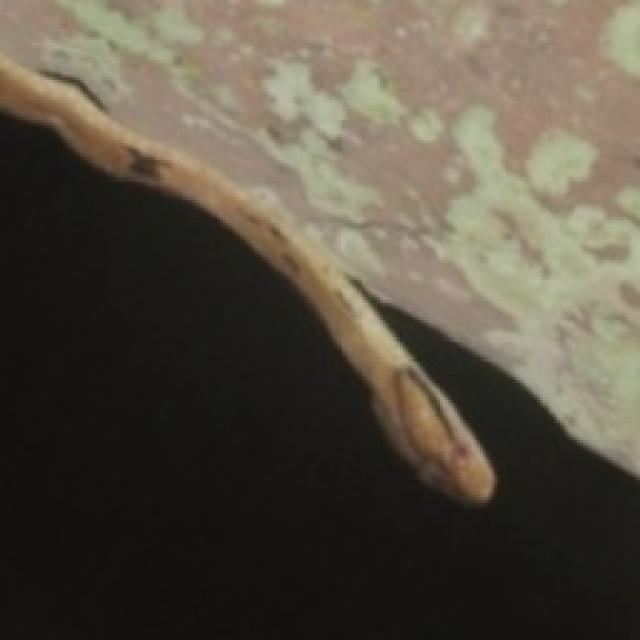dog-toothed cat snake: (0, 51, 494, 503)
